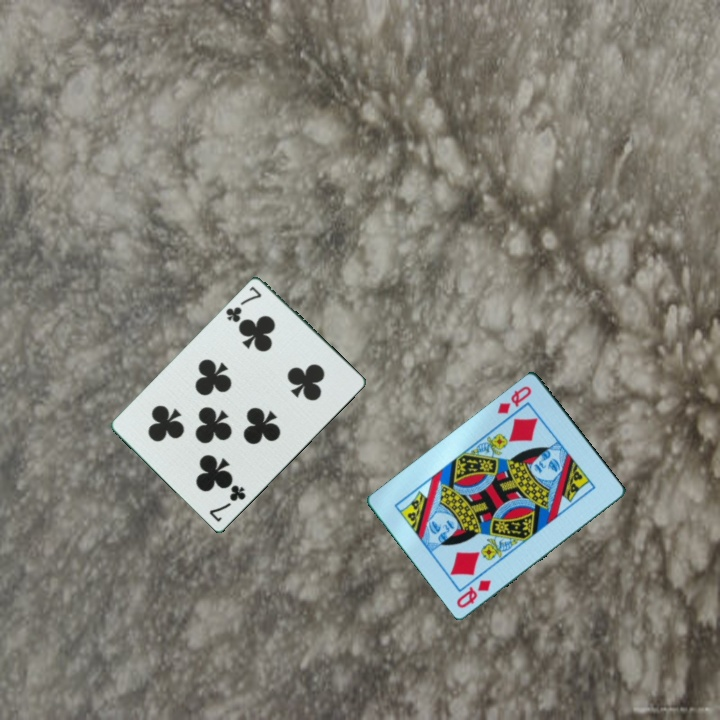7c: (222, 282, 265, 325), (206, 481, 249, 524)
Qd: (493, 382, 535, 417), (453, 576, 494, 611)
